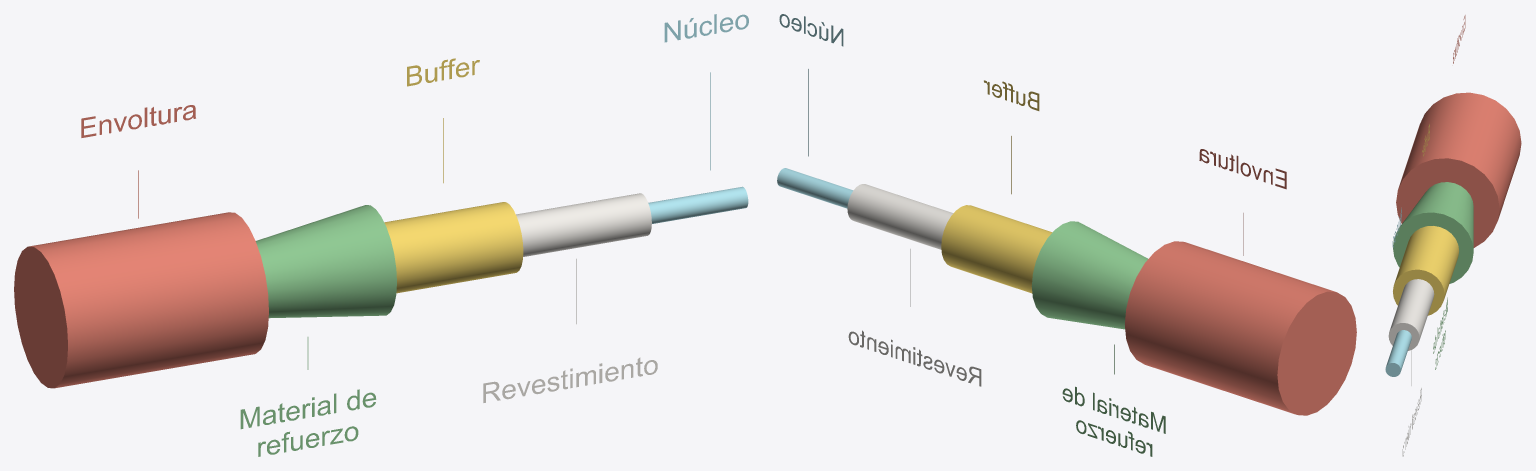
Rendered from ElementosFO.glb.
3 renders of one model, left to right at view 1: azimuth 30°, elevation 25°; view 2: azimuth 150°, elevation 25°; view 3: azimuth 270°, elevation 25°, orthographic. The views are drawn at different scales.
Visible parts, largest first — view 1: Elementos Fibra Óptica; view 2: Elementos Fibra Óptica; view 3: Elementos Fibra Óptica.
Boxes of the visible parts, bbox=[...] form: Elementos Fibra Óptica: bbox=[14, 14, 748, 456]; Elementos Fibra Óptica: bbox=[777, 14, 1356, 456]; Elementos Fibra Óptica: bbox=[1385, 15, 1521, 456].
Bounding box in the file's own units: 106 × 56.36 × 26.
